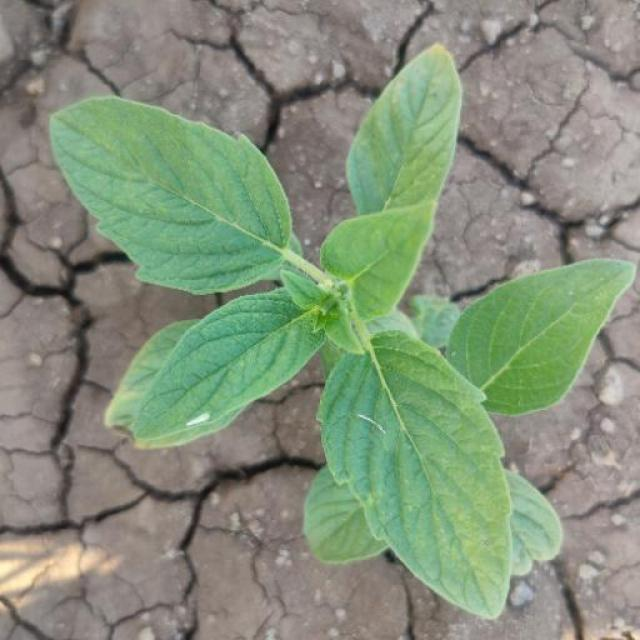crop: (46, 40, 635, 625)
